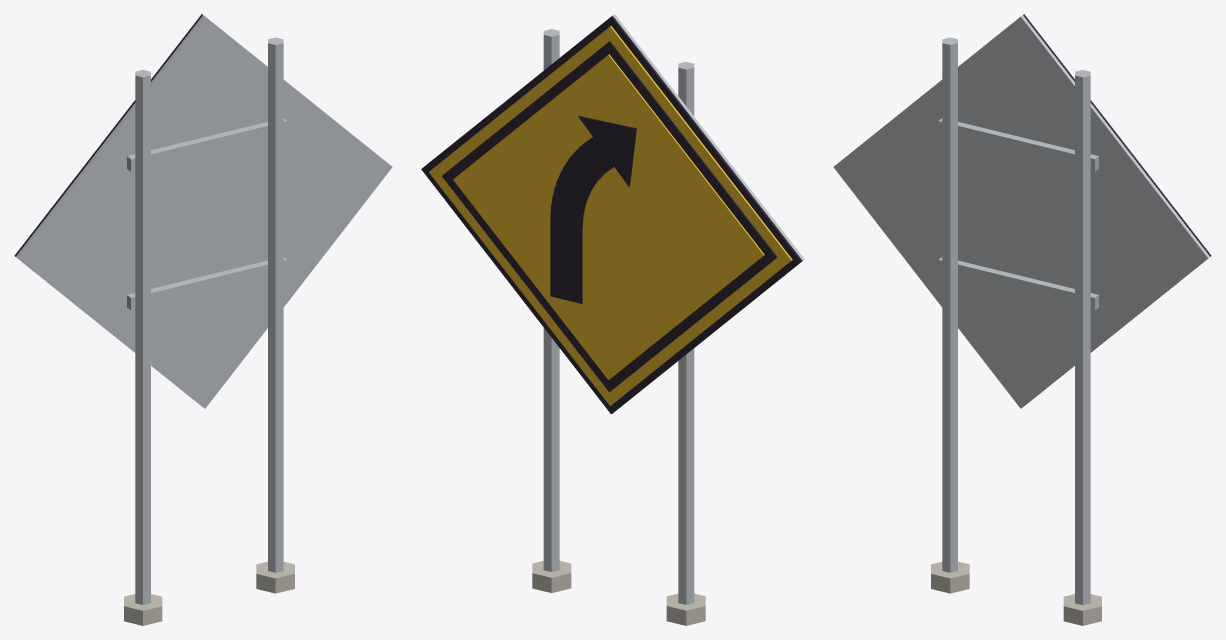
The model's file is corner_warn_curve_right.glb.
3 views of the same model, side by side, from view 1: azimuth 30°, elevation 25°; view 2: azimuth 150°, elevation 25°; view 3: azimuth 330°, elevation 25° (orthographic).
Parts seen in each view (by area): view 1: corner_warn_curve_right; view 2: corner_warn_curve_right; view 3: corner_warn_curve_right.
Part boxes in pixels (x1,y1,x2,y2): corner_warn_curve_right: [14, 14, 392, 625]; corner_warn_curve_right: [421, 14, 804, 625]; corner_warn_curve_right: [833, 14, 1211, 625].
Size of the model in its own units: 3.11 by 4.61 by 0.2996.
